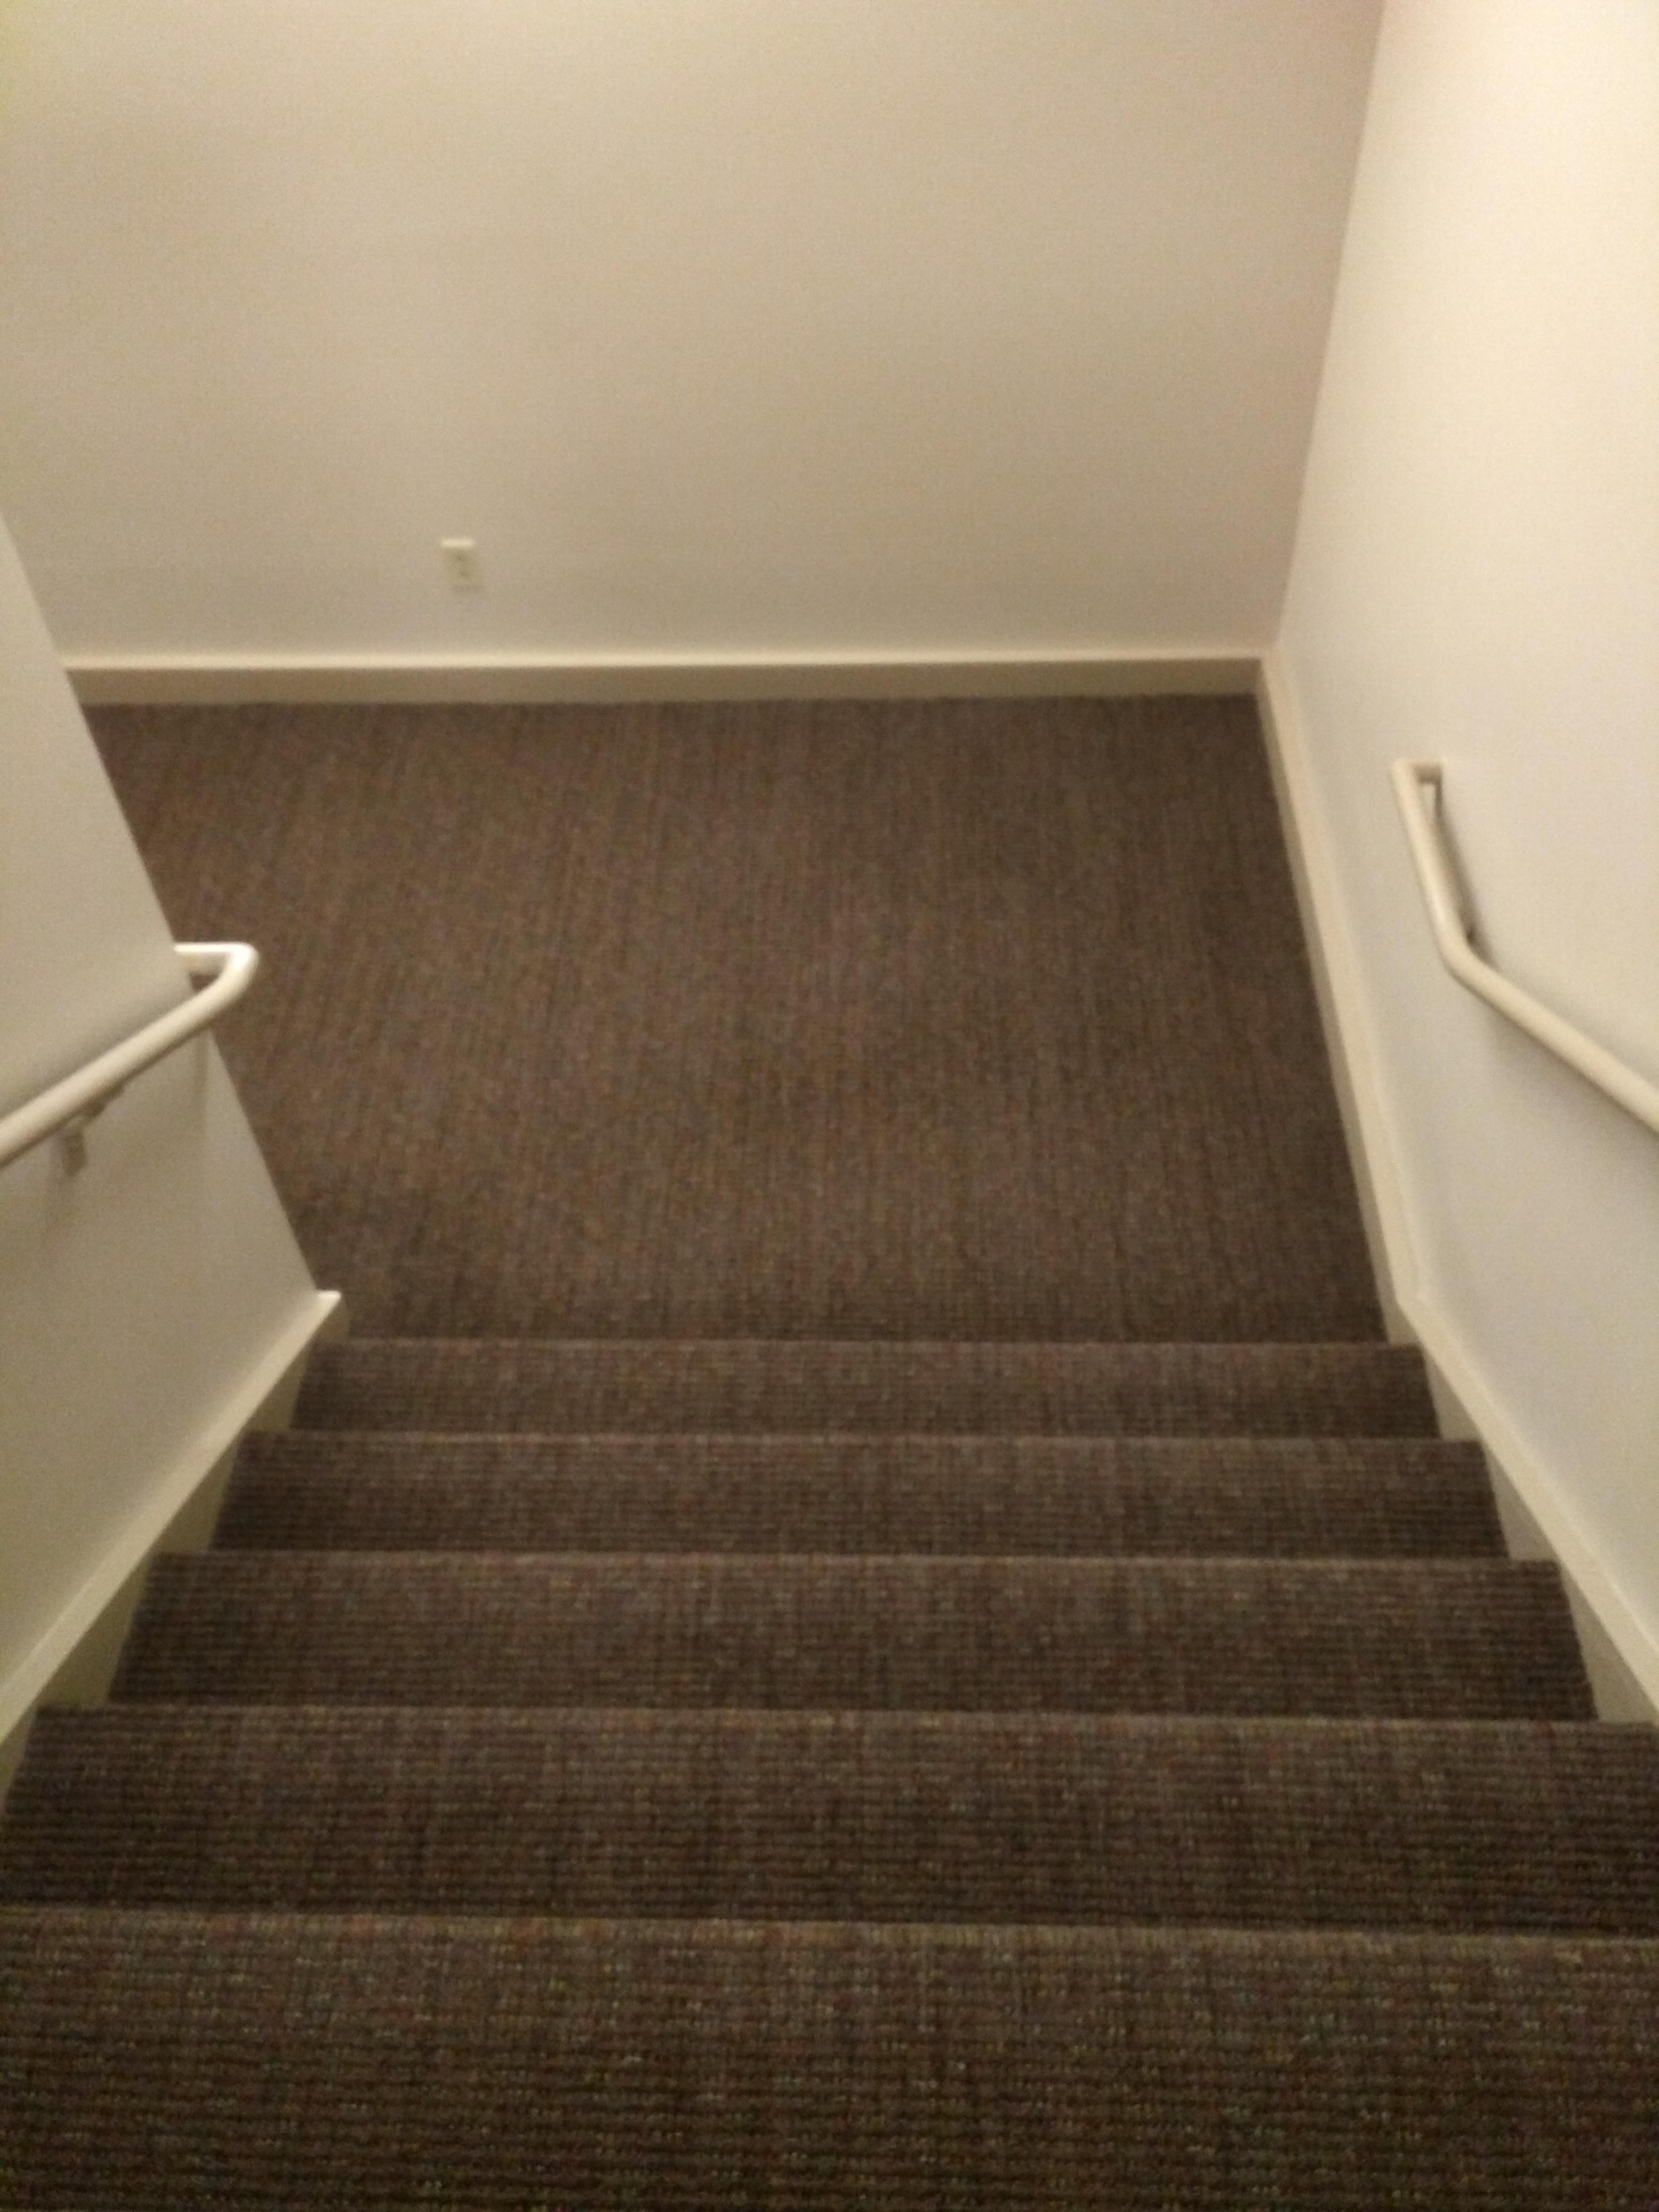stairs_down: (16, 1312, 1659, 2200)
